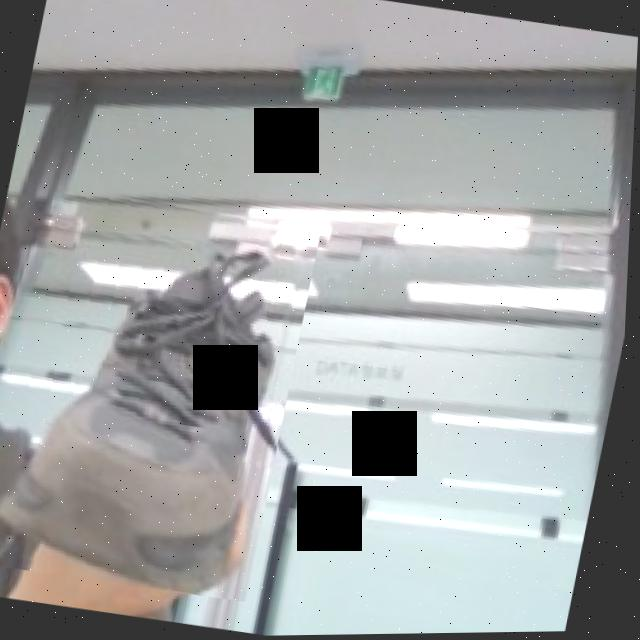shoe: (0, 180, 327, 606)
